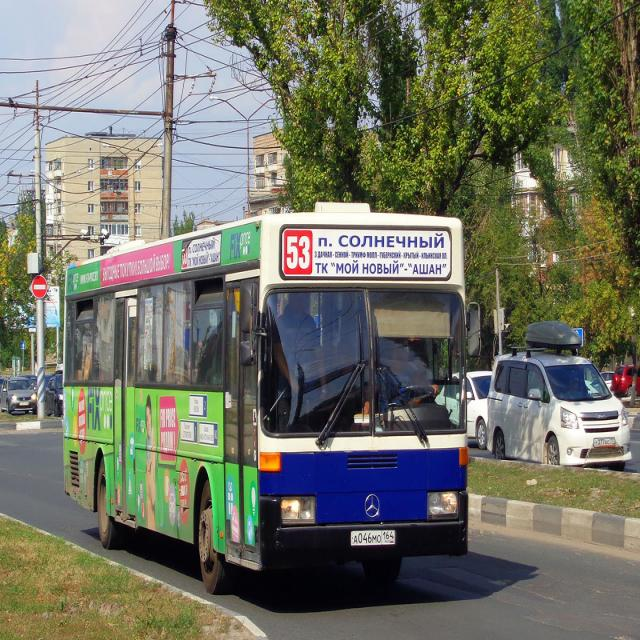number-of-bus: (285, 232, 315, 274)
